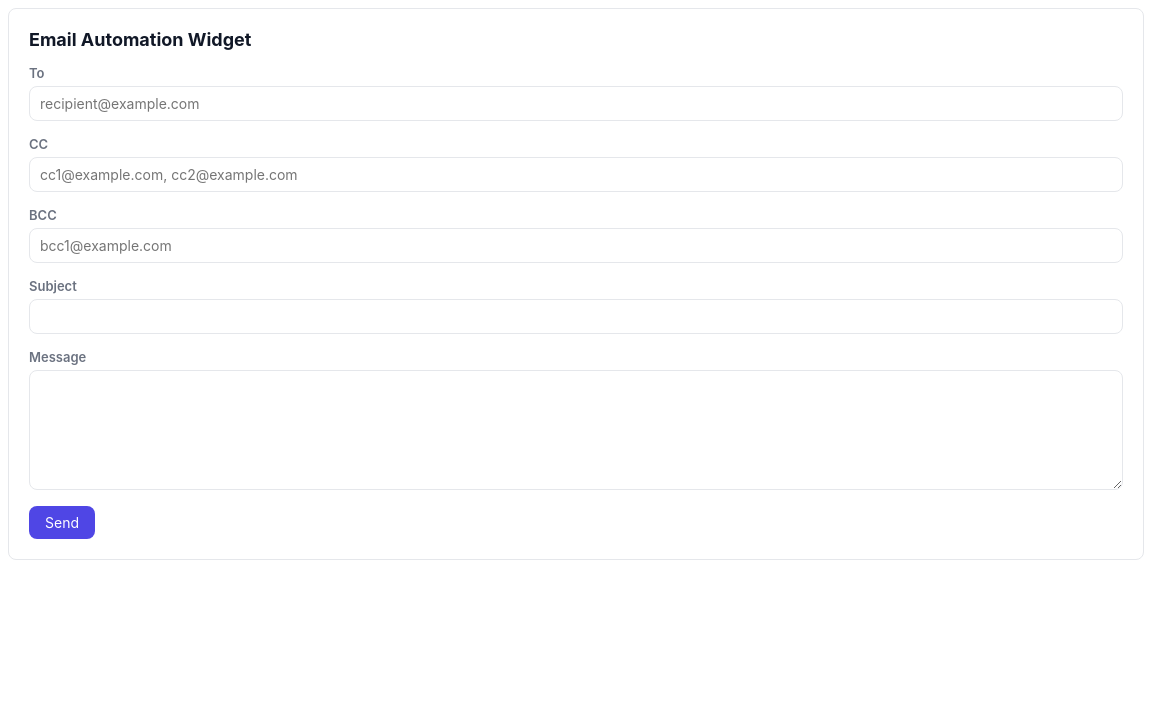
Test: EmailAutomationWidget (composer mode) › blocks submit and shows errors for a fully empty form
Click the button "Send".
click(62, 522)  # box [29,506,95,539]
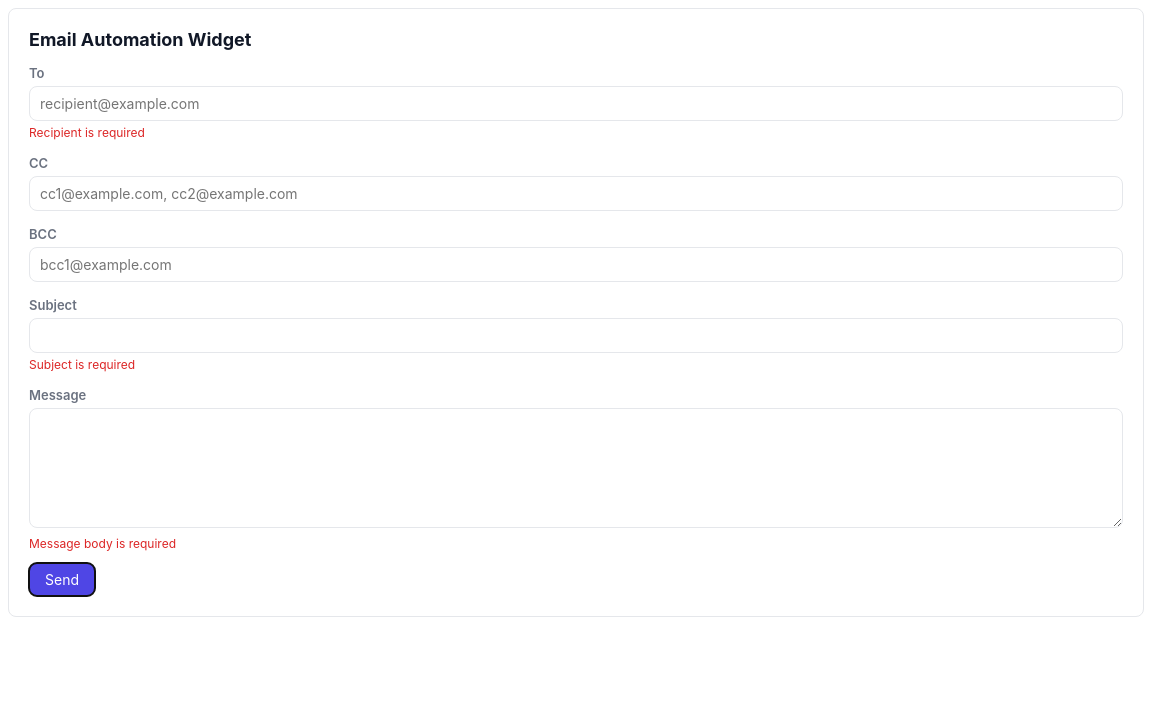
Expected: the text "Recipient is required" is shown, [29,125,145,140]
Expected: the text "Subject is required" is shown, [29,357,135,372]
Expected: the text "Message body is required" is shown, [29,536,176,551]
